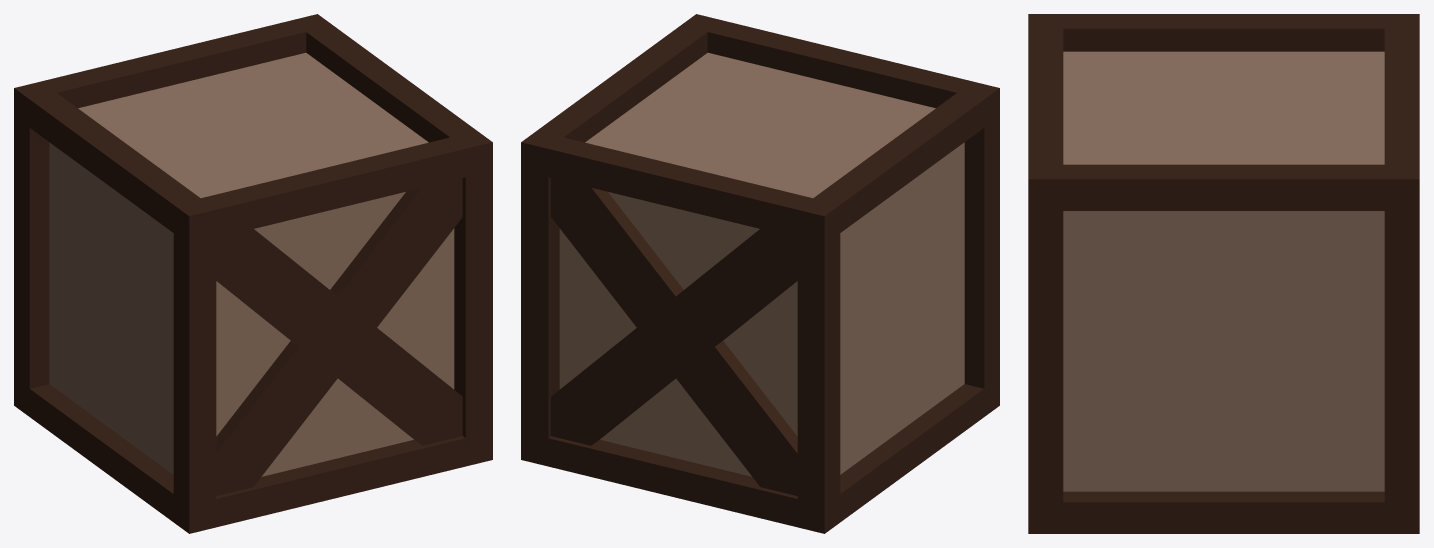
Rendered from prop_TestCrate.fbx.
3 renders of one model, left to right at view 1: azimuth 30°, elevation 25°; view 2: azimuth 150°, elevation 25°; view 3: azimuth 270°, elevation 25°, orthographic. The views are drawn at different scales.
Parts seen in each view (by area): view 1: prop_TestCrate; view 2: prop_TestCrate; view 3: prop_TestCrate.
Part boxes in pixels (x1=…): prop_TestCrate: x1=14, y1=14, x2=492, y2=533; prop_TestCrate: x1=521, y1=14, x2=999, y2=533; prop_TestCrate: x1=1028, y1=14, x2=1419, y2=533.
Size of the model in its own units: 1 by 1 by 1.
